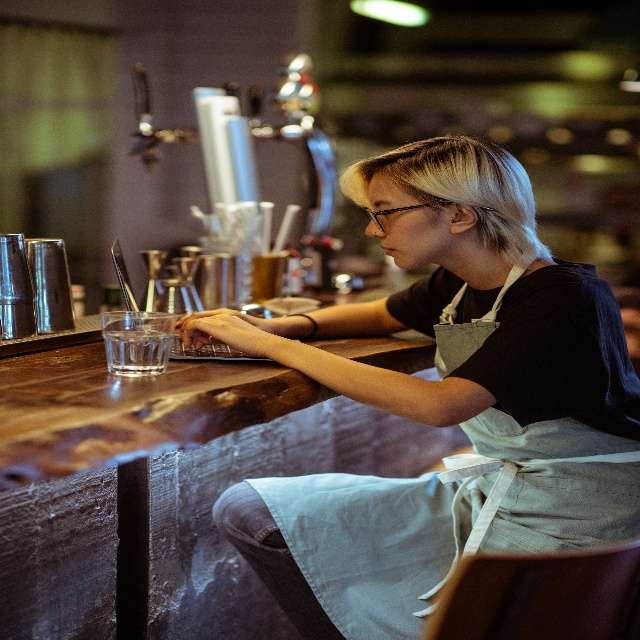Gafas: (367, 206, 494, 228)
Sin_guantes: (184, 315, 280, 358)
